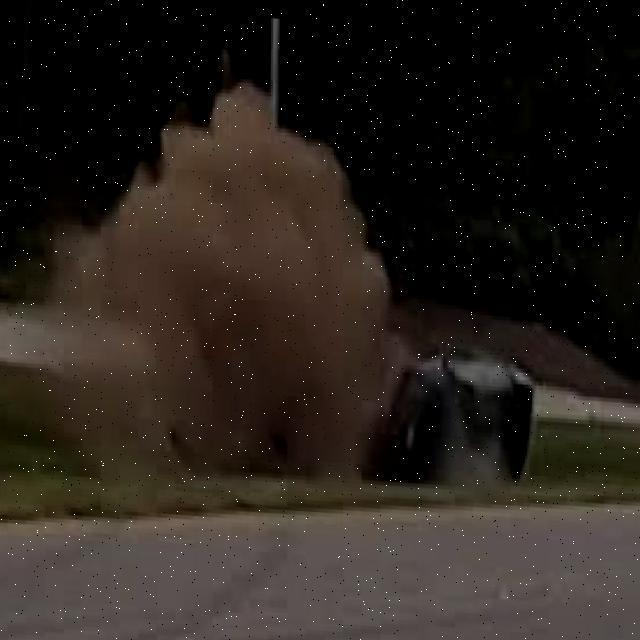single accident: (323, 306, 552, 511)
